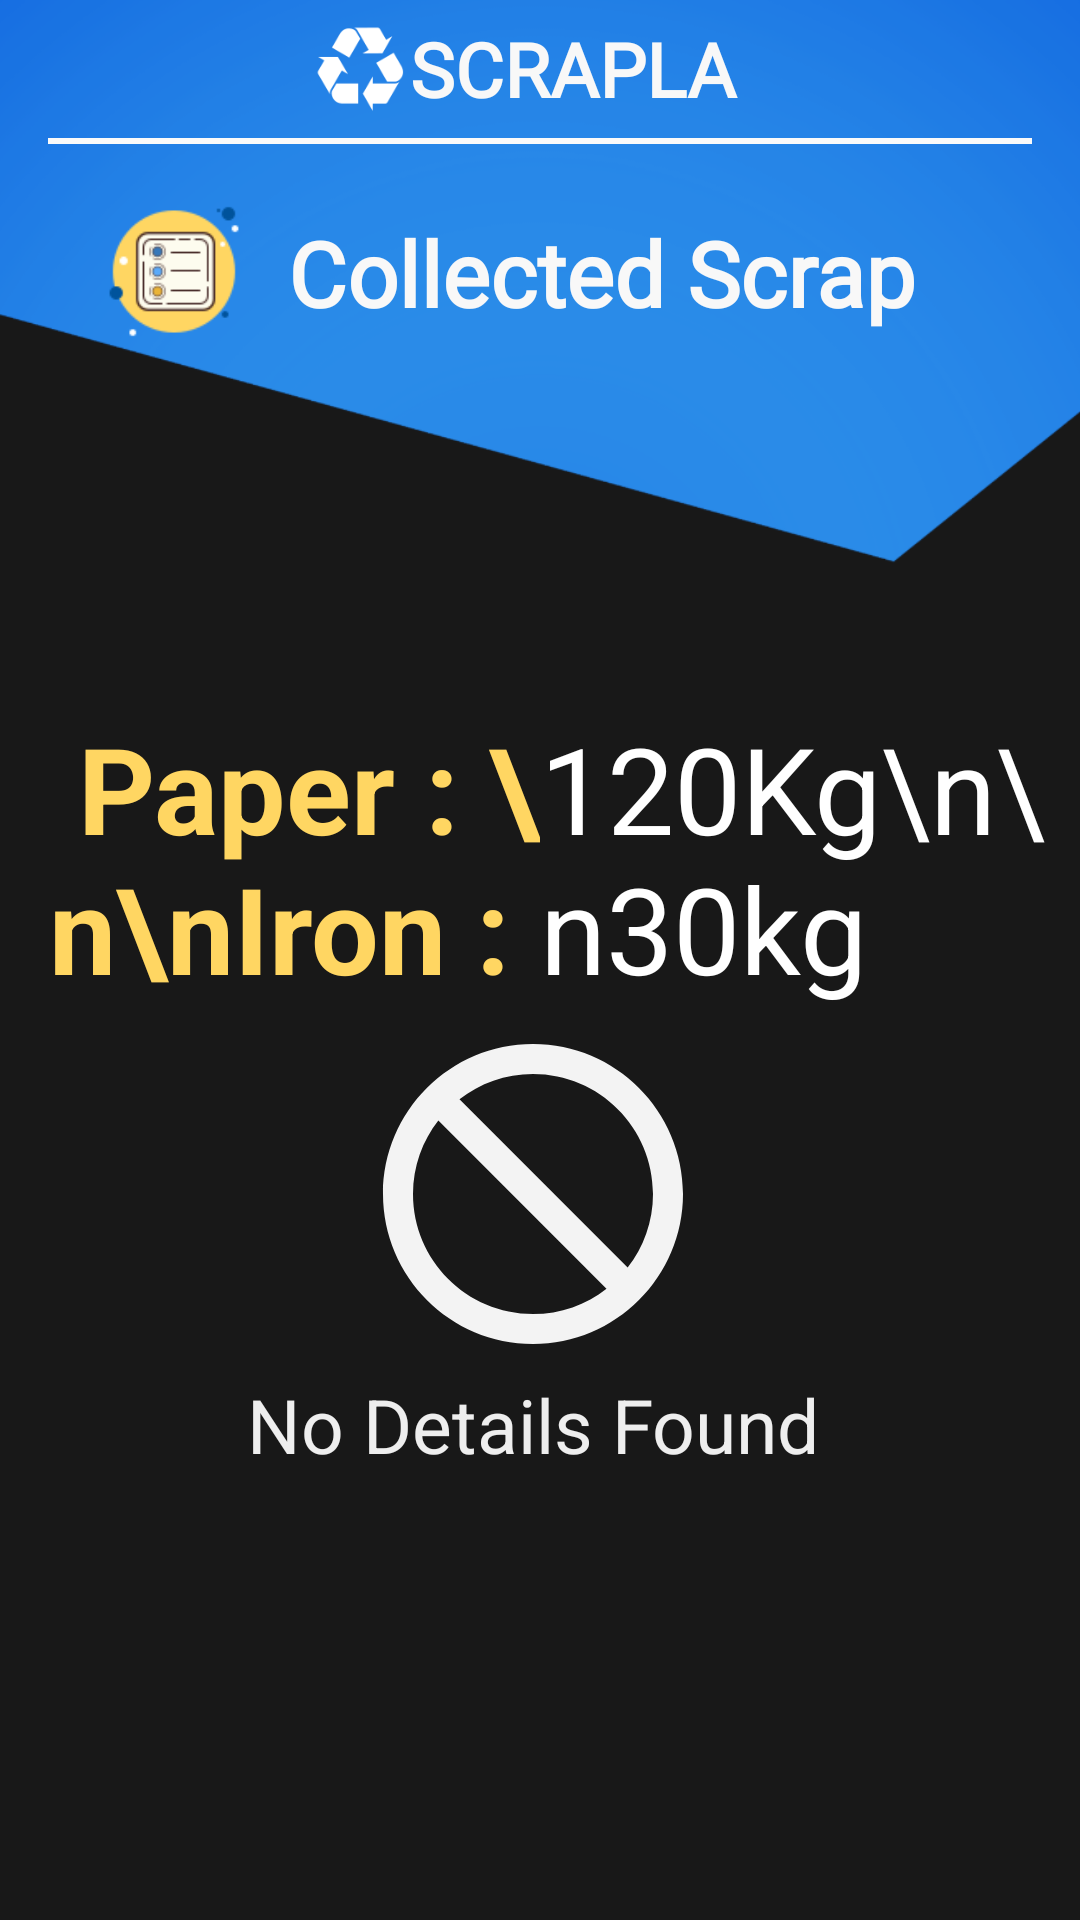

Icons on this 1080x1920 Android screen, each with its box as (x1, y1, x2, y2):
not interested: (383, 1044, 683, 1344)
